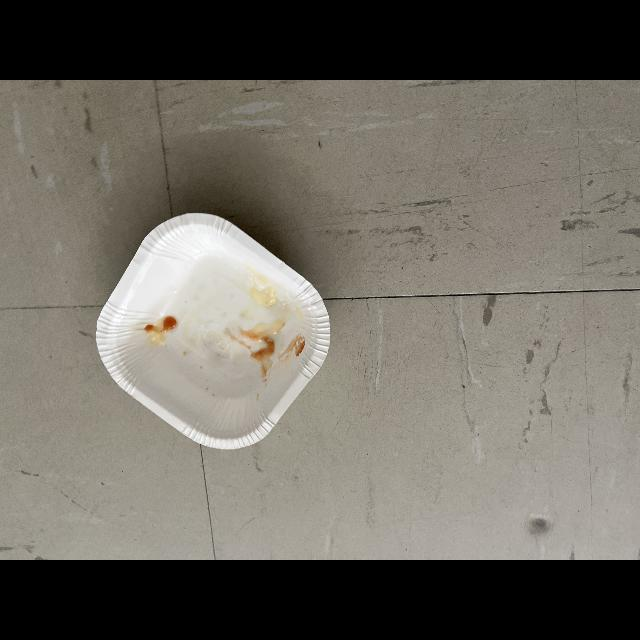cardboard_bowl: (86, 204, 334, 458)
